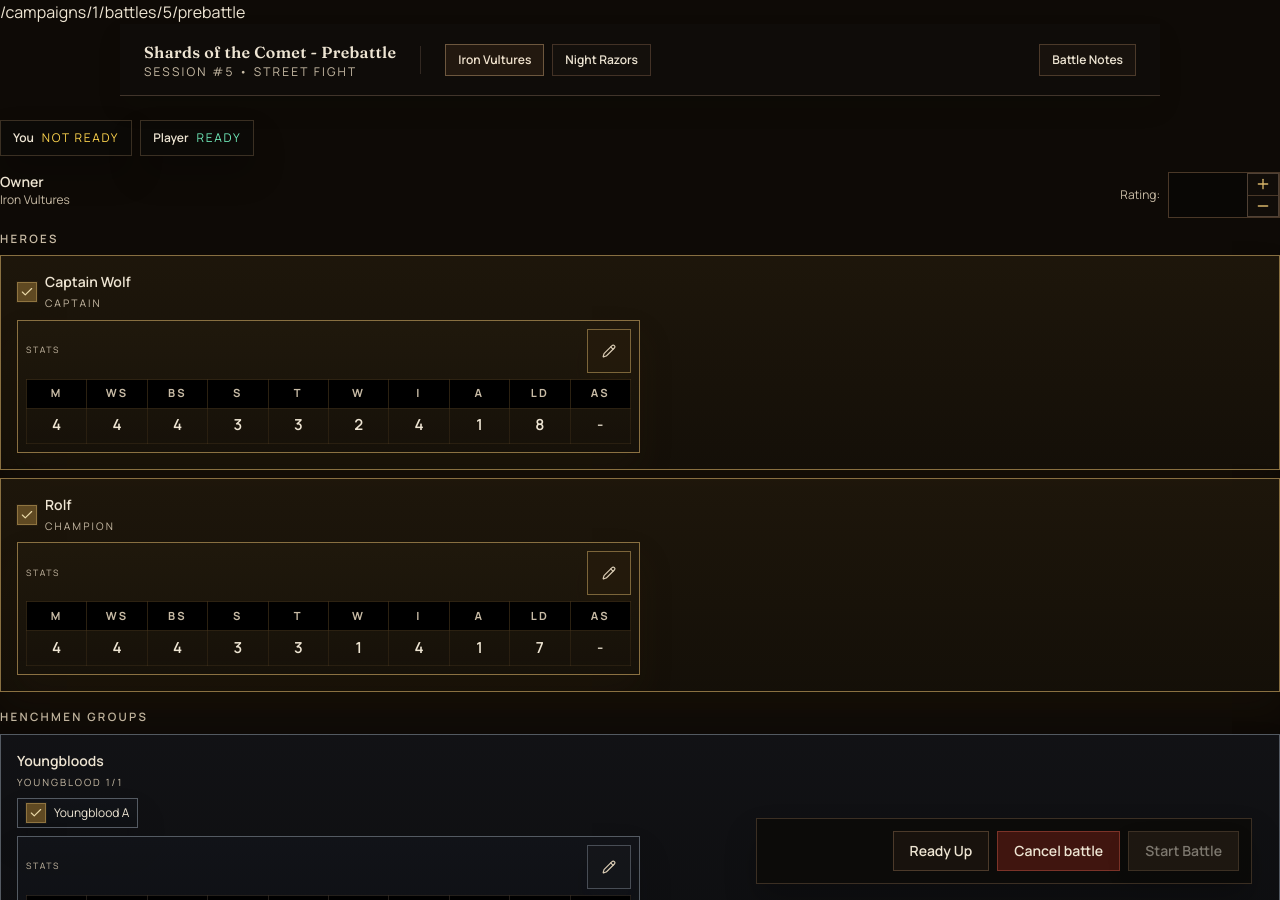
BattlePrebattle requests › enables Start from the server's capabilities, reading them again once your ready changes them
Expected: the button "Start Battle" is disabled, [1128, 831, 1239, 871]
Click the button "Ready Up". click: (941, 851)
box: [893, 831, 989, 871]
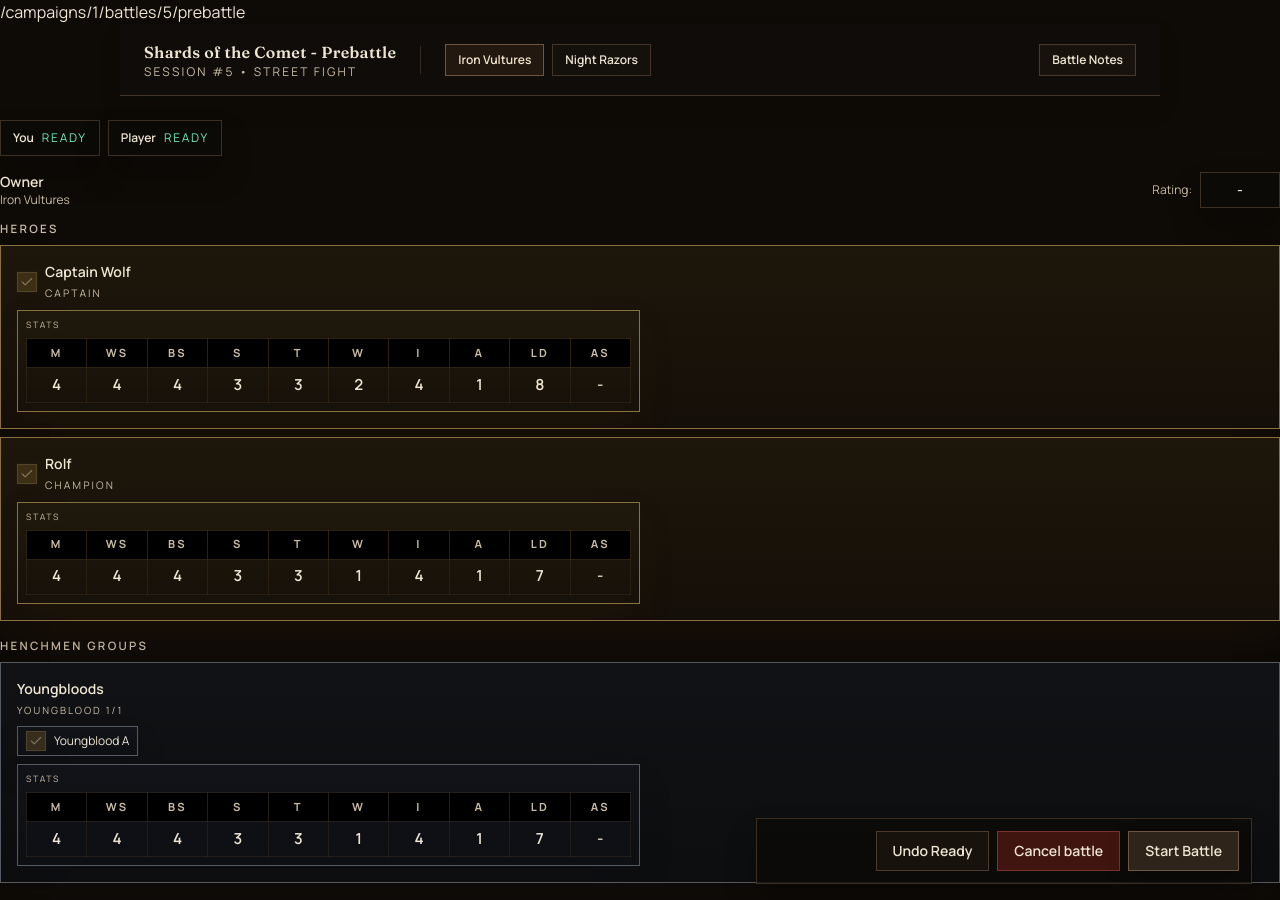
Result: the button "Start Battle" is enabled at [1128, 831, 1239, 871]
